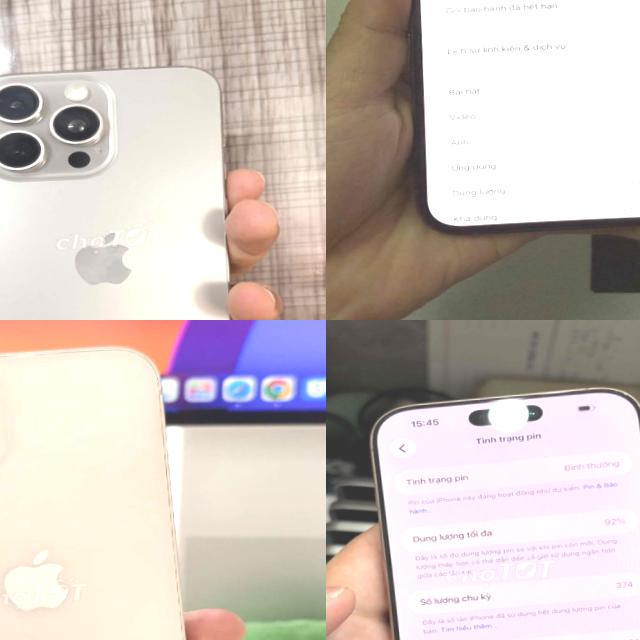gen_12_13: (375, 0, 640, 257), (0, 343, 204, 640)
gen_15: (0, 41, 274, 320)
gen_16: (373, 388, 640, 640)
